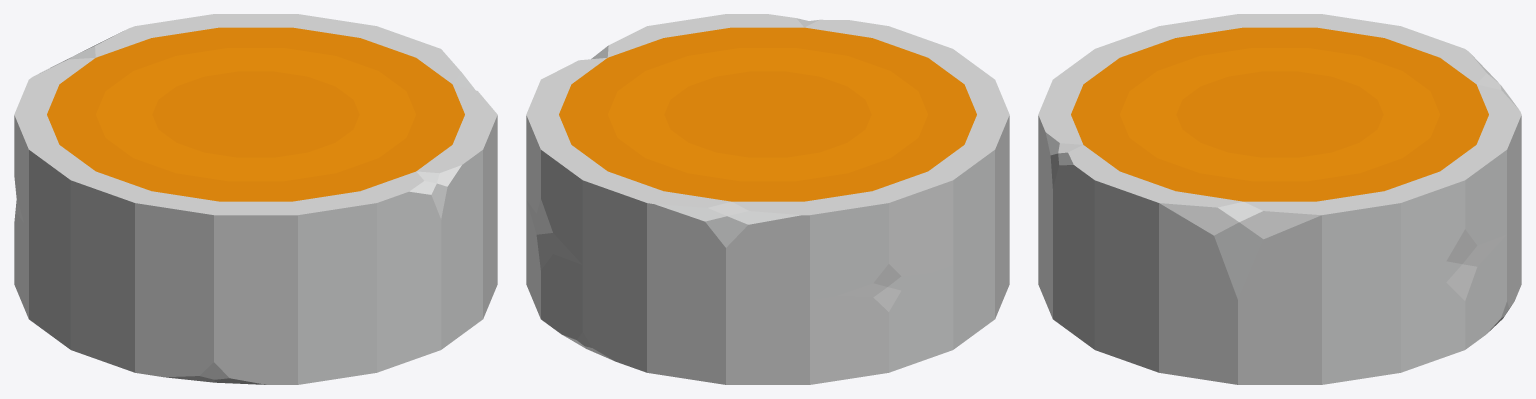
Rendered from Tree log_16.fbx.
The picture shows the model from 3 angles, left to right: view 1: azimuth 30°, elevation 25°; view 2: azimuth 150°, elevation 25°; view 3: azimuth 270°, elevation 25°; orthographic projection.
Visible parts, largest first — view 1: Circle.200; view 2: Circle.200; view 3: Circle.200.
Part boxes in pixels (x1,y1,x2,y2): Circle.200: (14, 14, 497, 384); Circle.200: (526, 14, 1009, 384); Circle.200: (1038, 14, 1521, 384).
Size of the model in its own units: 23.2 by 9.13 by 23.56.
